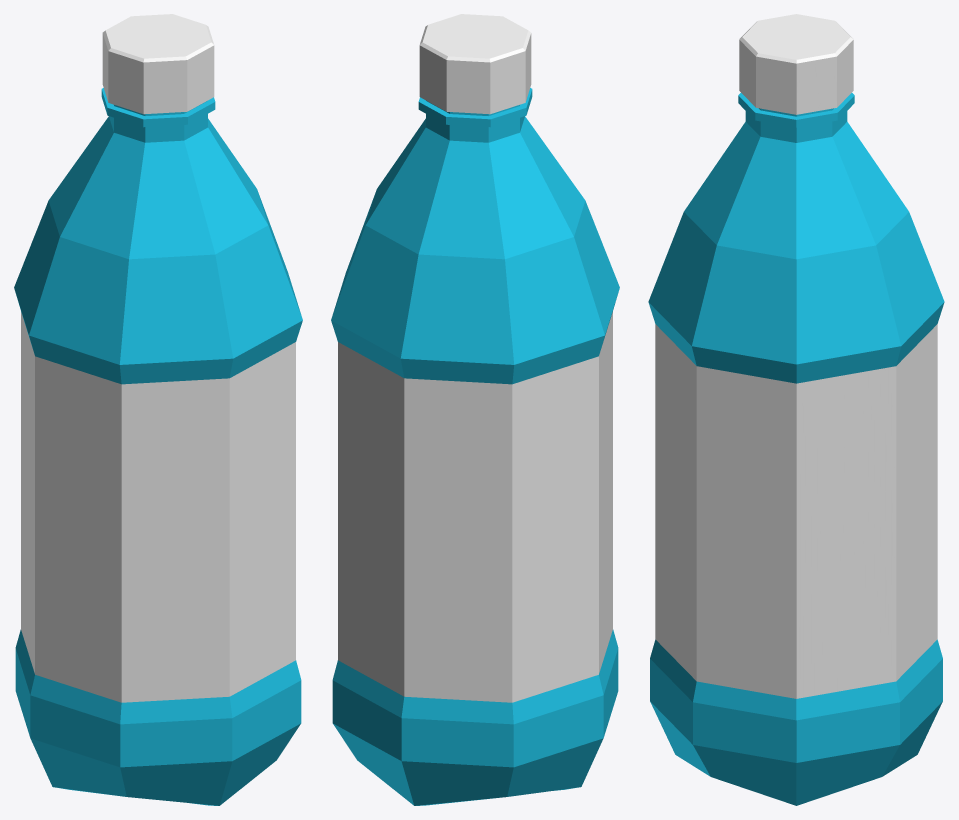
File: Water bottle.glb
3 views of the same model, side by side, from view 1: azimuth 30°, elevation 25°; view 2: azimuth 150°, elevation 25°; view 3: azimuth 270°, elevation 25° (orthographic).
Parts seen in each view (by area): view 1: Circle.002; view 2: Circle.002; view 3: Circle.002.
Boxes of the visible parts, x1,y1,x2,y2 form: Circle.002: (14, 14, 302, 805); Circle.002: (331, 14, 619, 805); Circle.002: (648, 14, 944, 805).
Size of the model in its own units: 3.69 by 9.95 by 3.69.
